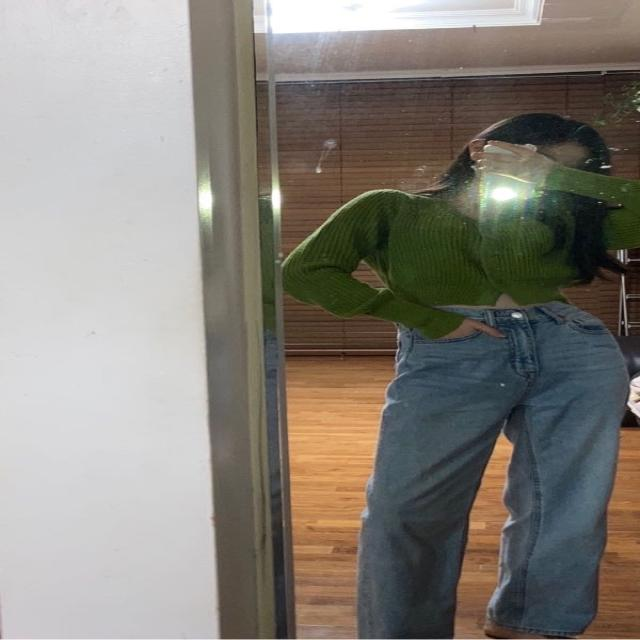cardigan: (280, 155, 640, 336)
denimpants: (358, 298, 633, 640)
